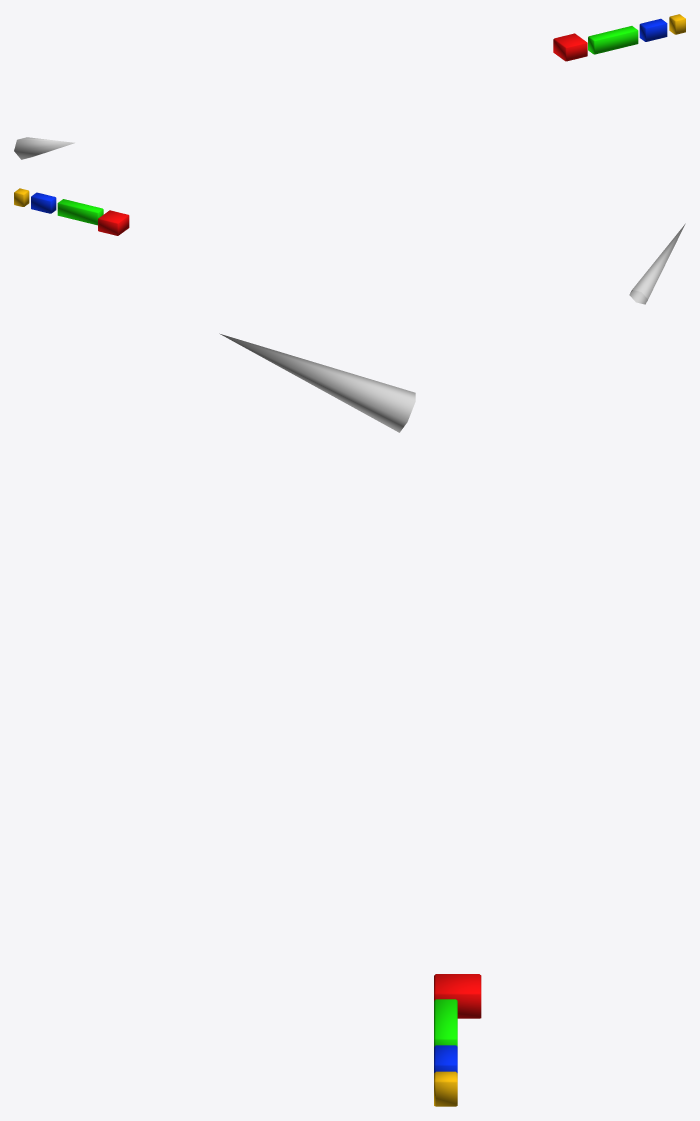
Rendered from kidRoom_lod1.FBX.
3 renders of one model, top to bottom at view 1: azimuth 30°, elevation 25°; view 2: azimuth 150°, elevation 25°; view 3: azimuth 270°, elevation 25°, orthographic. The views are drawn at different scales.
Parts seen in each view (by area): view 1: plastic_block_4x1_002, Cylinder128, plastic_block_2x2_red_002, plastic_block_2x1_002, plastic_block_1_002; view 2: Cylinder128, plastic_block_4x1_002, plastic_block_2x2_red_002, plastic_block_2x1_002, plastic_block_1_002; view 3: Cylinder128, plastic_block_2x2_red_002, plastic_block_4x1_002.
Boxes of the visible parts, <box> form: plastic_block_4x1_002: <box>588,26,638,54</box>; Cylinder128: <box>14,137,74,159</box>; plastic_block_2x2_red_002: <box>553,33,587,61</box>; plastic_block_2x1_002: <box>639,18,667,41</box>; plastic_block_1_002: <box>669,14,685,34</box>; Cylinder128: <box>629,223,685,304</box>; plastic_block_4x1_002: <box>57,199,103,225</box>; plastic_block_2x2_red_002: <box>98,210,129,235</box>; plastic_block_2x1_002: <box>31,192,56,213</box>; plastic_block_1_002: <box>14,188,29,206</box>; Cylinder128: <box>219,333,415,432</box>; plastic_block_2x2_red_002: <box>434,974,481,1018</box>; plastic_block_4x1_002: <box>434,999,457,1046</box>.
Size of what is drawn, in the model's own units: 9111 by 1667 by 1227.
